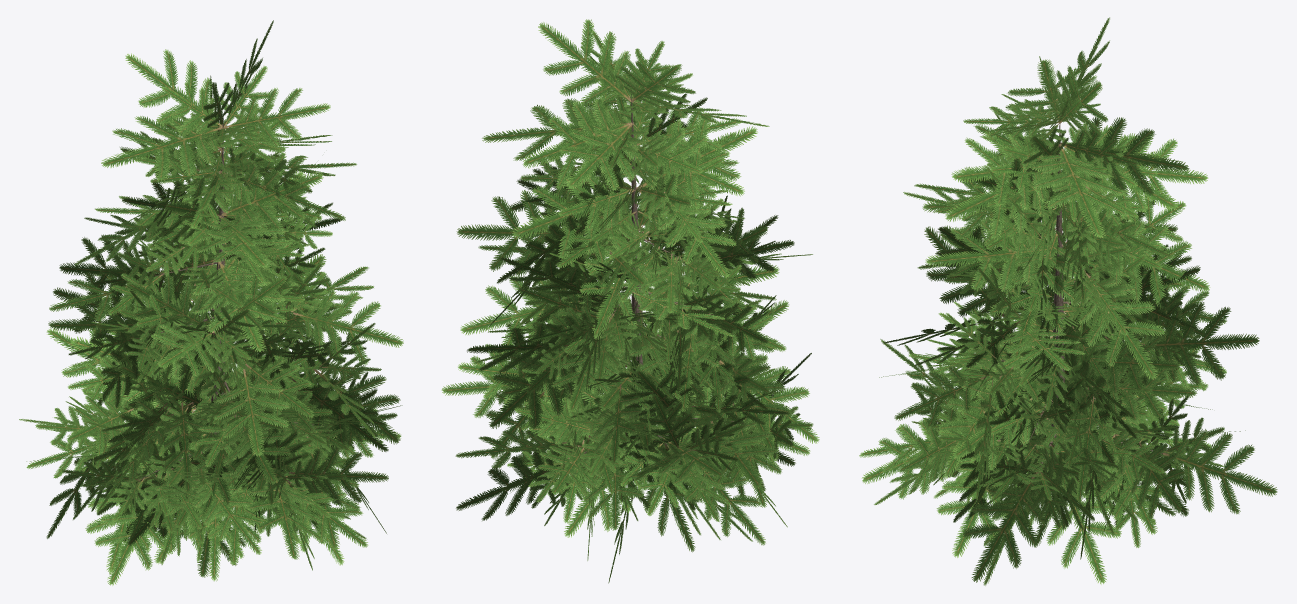
The model's file is fm_spruce.glb.
The picture shows the model from 3 angles, left to right: view 1: azimuth 30°, elevation 25°; view 2: azimuth 150°, elevation 25°; view 3: azimuth 270°, elevation 25°; orthographic projection.
Parts seen in each view (by area): view 1: L3_leaves, L2_leaves, L2_bark; view 2: L3_leaves, L2_leaves, L2_bark; view 3: L3_leaves, L2_leaves, L2_bark.
Boxes of the visible parts, left/top/right/bottom form: L3_leaves: left=19, top=20, right=403, bottom=585; L2_leaves: left=35, top=66, right=397, bottom=543; L2_bark: left=139, top=118, right=323, bottom=485; L3_leaves: left=441, top=19, right=819, bottom=583; L2_leaves: left=490, top=41, right=813, bottom=525; L2_bark: left=573, top=93, right=734, bottom=453; L3_leaves: left=859, top=17, right=1277, bottom=585; L2_leaves: left=903, top=56, right=1227, bottom=547; L2_bark: left=942, top=115, right=1162, bottom=473.
Size of the model in its own units: 17.68 by 26.94 by 19.2.
Materials: 4 (4 with a texture image).
